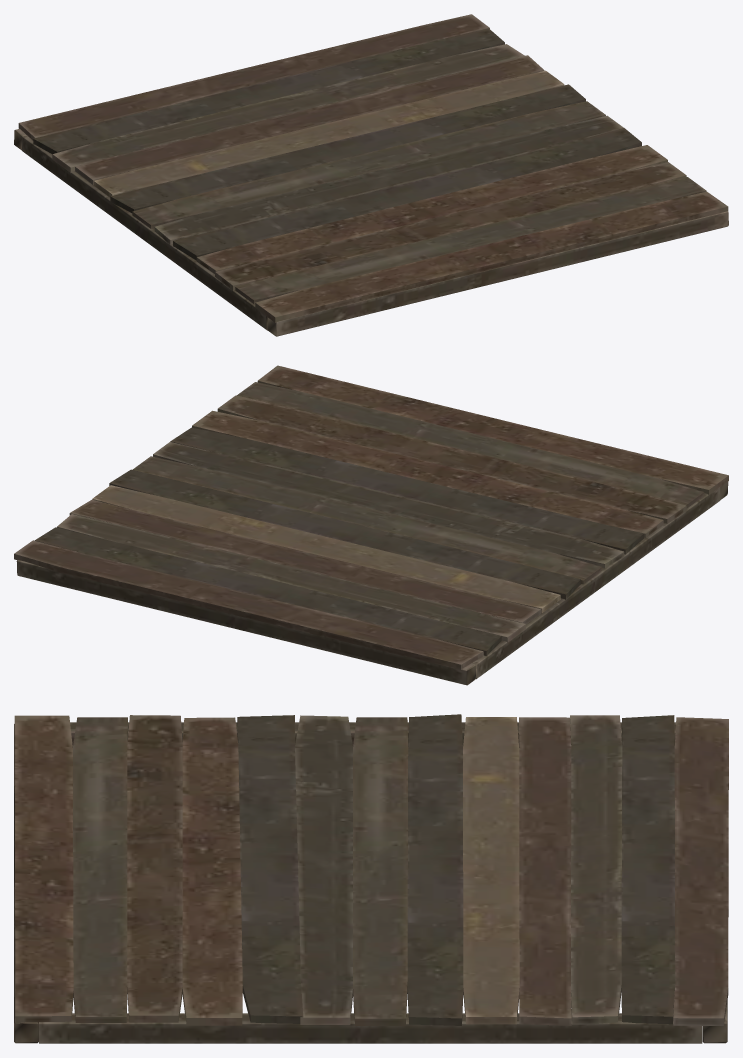
The model's file is floor.frontier_variant_c.glb.
3 renders of one model, top to bottom at view 1: azimuth 30°, elevation 25°; view 2: azimuth 150°, elevation 25°; view 3: azimuth 270°, elevation 25°, orthographic. The views are drawn at different scales.
Parts seen in each view (by area): view 1: floor_c_LOD0; view 2: floor_c_LOD0; view 3: floor_c_LOD0.
Part boxes in pixels (<box>): floor_c_LOD0: <box>14,14,728,336</box>; floor_c_LOD0: <box>14,365,728,685</box>; floor_c_LOD0: <box>14,714,728,1043</box>.
Size of the model in its own units: 3.03 by 0.1327 by 3.01.
1 material, 1 textured.
